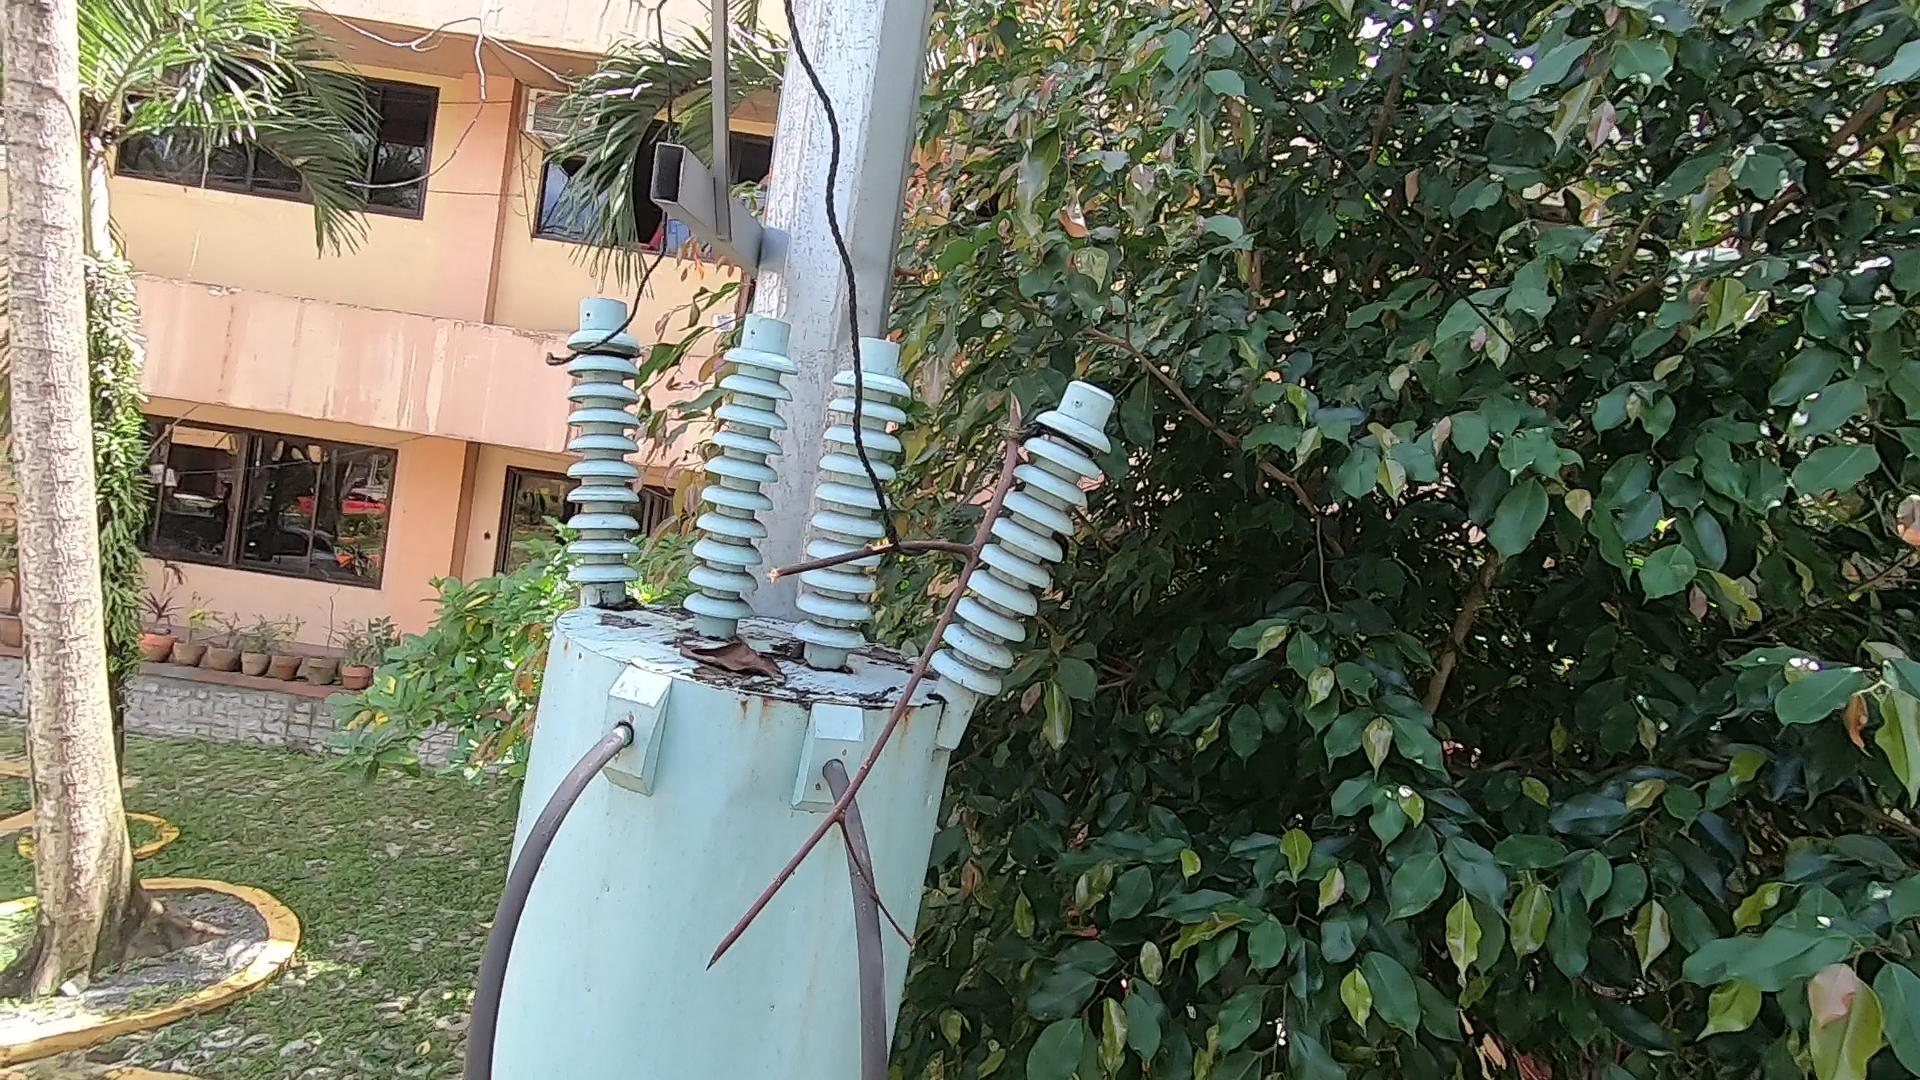leaf: (676, 621, 789, 694)
tree branch: (688, 377, 1062, 978)
